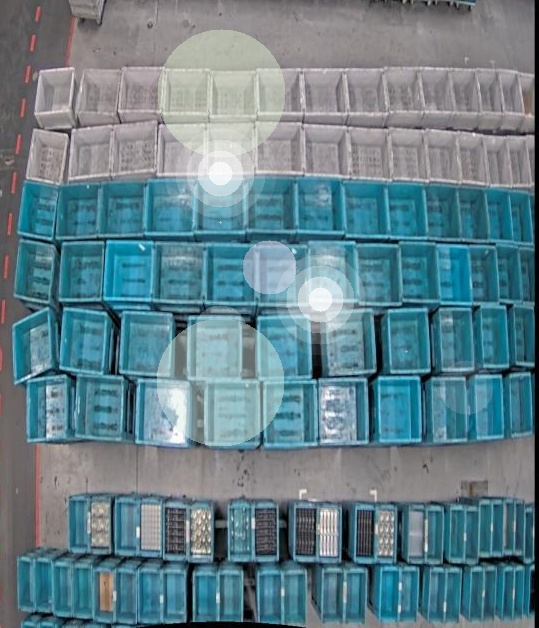Box: (117, 310, 175, 379), (256, 312, 313, 379), (186, 315, 242, 382), (264, 379, 318, 448), (204, 381, 260, 447), (134, 380, 190, 446), (323, 308, 375, 379), (75, 370, 126, 442), (58, 308, 110, 376), (11, 306, 54, 388), (152, 241, 205, 306), (24, 374, 73, 444), (56, 237, 105, 307), (256, 245, 311, 306), (102, 240, 155, 303), (318, 379, 368, 445), (246, 174, 296, 239), (204, 245, 257, 306), (194, 175, 246, 236), (53, 181, 103, 243), (310, 240, 357, 305), (66, 126, 115, 188), (13, 239, 58, 306), (146, 177, 196, 237), (385, 308, 430, 374), (354, 242, 400, 306), (111, 120, 157, 184), (295, 178, 344, 238), (99, 180, 148, 240), (378, 376, 421, 444), (157, 124, 207, 180), (117, 66, 166, 123), (16, 181, 60, 244), (74, 65, 120, 125), (256, 120, 304, 177), (344, 178, 389, 238), (398, 242, 440, 306), (163, 66, 210, 123), (24, 128, 69, 187), (208, 66, 256, 121), (207, 120, 254, 176), (305, 124, 349, 181), (302, 66, 346, 123), (35, 68, 75, 129), (257, 64, 303, 117), (346, 66, 388, 124), (385, 65, 424, 127), (430, 379, 466, 444), (437, 307, 473, 371), (349, 125, 390, 181), (387, 130, 428, 183), (438, 245, 472, 307), (388, 183, 426, 237), (424, 184, 461, 239), (424, 130, 462, 183), (478, 305, 508, 370), (472, 375, 502, 439), (450, 69, 481, 130), (422, 67, 452, 127), (507, 372, 533, 440), (457, 132, 489, 187), (458, 185, 489, 241), (478, 68, 505, 129), (114, 495, 139, 559), (89, 490, 114, 554), (470, 246, 498, 302), (486, 185, 514, 241), (188, 500, 213, 562), (499, 70, 524, 130), (253, 500, 277, 562), (496, 246, 522, 302), (317, 505, 342, 563), (293, 501, 318, 559), (227, 502, 251, 562), (505, 134, 531, 189), (161, 569, 186, 626), (217, 570, 244, 622), (484, 135, 512, 185), (512, 303, 534, 366), (354, 502, 377, 562), (139, 497, 162, 557), (68, 496, 91, 556), (320, 569, 346, 622), (283, 571, 307, 628), (162, 502, 185, 561), (376, 504, 398, 564), (138, 569, 161, 626), (423, 504, 444, 566), (344, 570, 368, 624), (258, 569, 282, 623), (115, 570, 137, 625), (380, 568, 402, 622), (510, 191, 532, 245), (405, 504, 425, 563), (93, 569, 115, 622), (399, 567, 420, 622), (194, 572, 216, 623), (443, 569, 462, 625), (73, 565, 93, 618), (428, 568, 446, 624), (15, 556, 33, 612), (462, 504, 478, 566), (53, 563, 71, 616), (35, 558, 53, 611), (468, 566, 485, 622), (481, 567, 497, 625), (477, 498, 492, 558), (519, 73, 534, 133), (519, 248, 535, 304), (448, 506, 463, 564), (500, 567, 514, 622), (522, 503, 534, 563), (501, 498, 513, 558), (512, 566, 525, 621), (491, 498, 502, 558), (512, 500, 524, 552), (526, 564, 535, 617)
